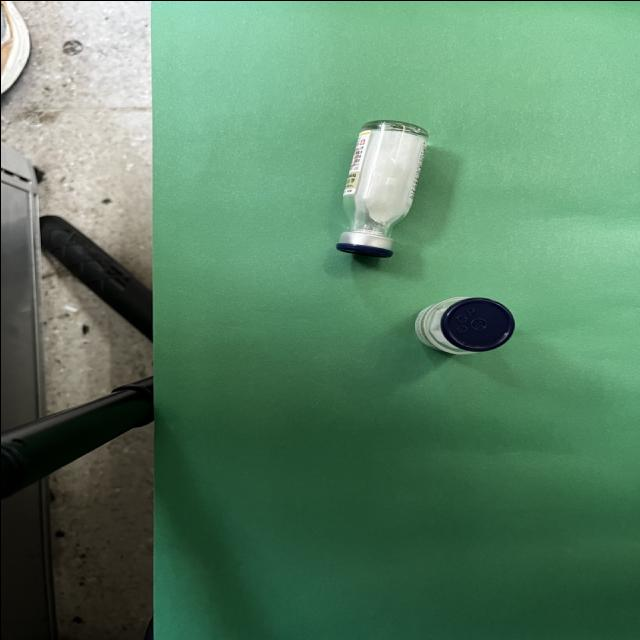Vials: (335, 119, 427, 256), (413, 296, 513, 354)
